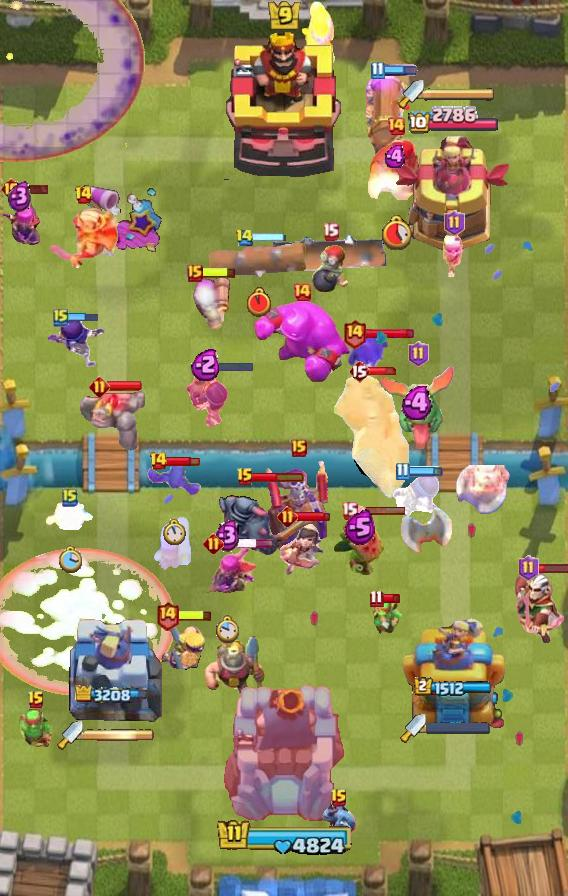archer-evolution: (196, 544, 258, 600), (0, 194, 45, 250)
axe: (400, 487, 454, 555), (454, 465, 510, 515)
bar: (364, 327, 415, 340), (252, 471, 305, 483), (203, 360, 254, 372), (222, 538, 275, 549), (355, 505, 407, 516), (177, 609, 213, 622), (201, 266, 237, 279), (13, 183, 50, 195), (295, 511, 331, 523), (107, 380, 143, 392), (382, 64, 418, 76), (165, 455, 200, 467), (408, 466, 443, 477), (252, 232, 287, 243), (536, 563, 568, 574), (67, 312, 99, 323), (367, 366, 399, 376), (382, 593, 401, 604)
bar-level: (155, 600, 180, 631), (342, 318, 367, 349), (0, 177, 23, 201), (518, 555, 539, 581), (408, 341, 429, 367), (444, 210, 465, 236), (348, 359, 370, 383), (203, 533, 224, 554), (277, 506, 298, 527), (89, 376, 110, 397), (292, 282, 312, 302), (386, 116, 406, 136), (149, 451, 168, 471), (74, 185, 93, 205), (235, 228, 254, 247), (330, 788, 348, 808), (27, 690, 45, 710), (236, 467, 254, 487), (341, 501, 358, 520), (322, 222, 339, 241), (62, 487, 78, 507), (53, 307, 69, 327), (291, 439, 307, 457), (187, 264, 203, 282), (369, 589, 384, 608), (395, 462, 410, 481), (370, 61, 385, 80)
barbarian-evolution: (159, 620, 207, 672)
bat-evolution: (146, 464, 202, 498)
bomber: (311, 244, 351, 292)
bomber-evolution: (45, 314, 105, 370), (184, 362, 228, 428), (390, 472, 442, 526)
clock: (379, 214, 414, 250), (247, 287, 271, 317), (215, 615, 239, 644), (58, 545, 82, 574), (163, 519, 186, 546)
dagger-duchess-tower: (391, 132, 515, 256), (401, 615, 506, 731), (66, 611, 162, 731)
dagger-duchess-tower-bar: (83, 728, 155, 742), (424, 87, 496, 101), (426, 722, 490, 734)
dart-goblin: (332, 508, 388, 580)
electro-spirit: (348, 332, 390, 372)
elixir: (401, 386, 436, 420), (344, 509, 376, 546), (191, 347, 222, 381), (214, 518, 241, 552), (8, 180, 32, 212), (384, 145, 408, 168)
firecracker: (187, 271, 231, 333), (151, 514, 193, 572)
golemite: (80, 387, 150, 453)
hunter: (367, 136, 425, 200)
ice-spirit: (45, 500, 95, 530)
king-tower: (224, 29, 344, 181), (221, 682, 347, 826)
king-tower-bar: (213, 818, 355, 858)
miner: (203, 635, 269, 703)
minion: (320, 801, 358, 841)
musketeer: (302, 0, 336, 76)
princess: (275, 521, 325, 577)
skeleton-evolution: (440, 235, 468, 277)
spear-goblin: (16, 707, 56, 747), (370, 595, 402, 635)
the-log: (269, 233, 391, 277), (208, 239, 310, 279)
tower-bar: (407, 106, 500, 136), (75, 685, 153, 706), (414, 677, 493, 697)
